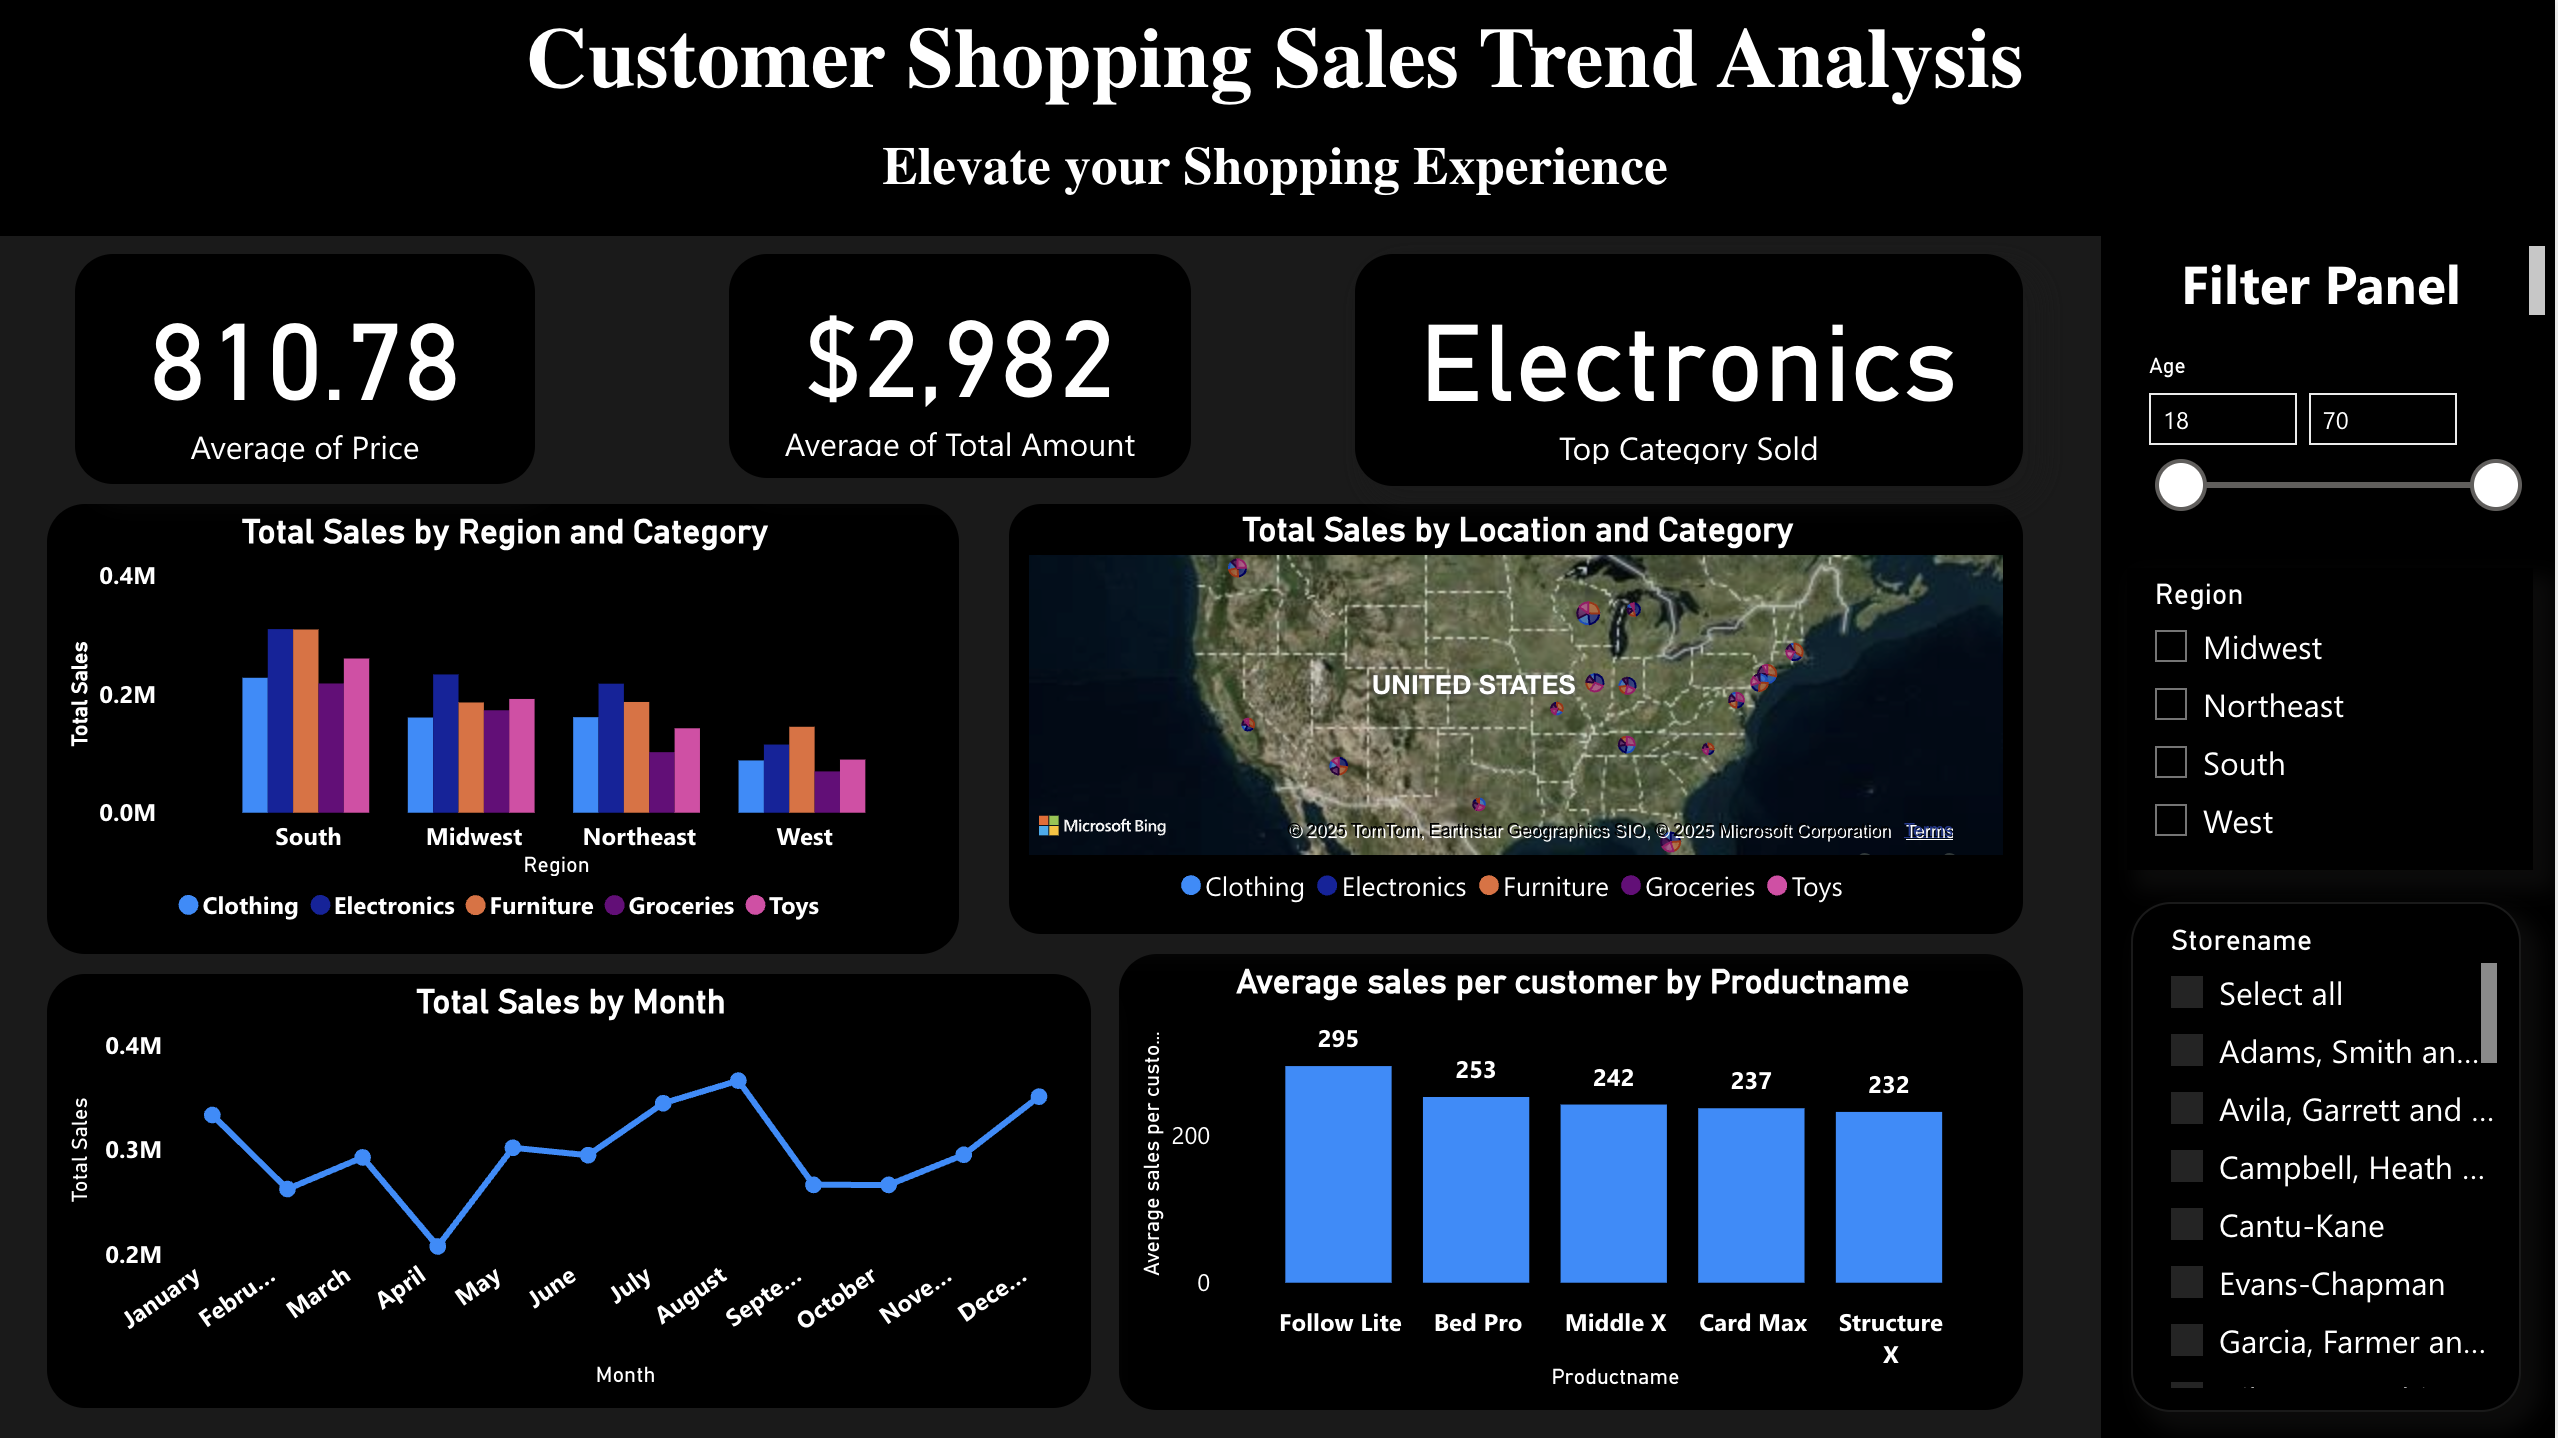

Layout of this report page (visuals, bound fields, positions):
{"tool":"powerbi","page":{"name":"Shopping Sale Trend","canvas":[1280,720],"ordinal":1},"visuals":[{"type":"shape","box":[1052.5,113.8,227.5,606.2],"z":0},{"type":"clusteredColumnChart","fields":{"Category":["Customers (2).Region"],"Series":["Products (2).Category"],"Y":["Sales (2).Total Sales"]},"box":[25,251.2,457.5,226.2],"z":1000},{"type":"card","fields":{"Values":["Products (2).Price"]},"box":[38.8,126.2,232.5,116.2],"z":2000},{"type":"card","fields":{"Values":["Sales (2).Total Amount"]},"box":[366.2,126.2,232.5,113.8],"z":3000},{"type":"textbox","box":[0,0,1280,63.8],"z":4000},{"type":"textbox","box":[0,63.1,1280,54.5],"z":5000},{"type":"columnChart","fields":{"Category":["Products (2).Productname"],"Y":["Sales (2).Average sales per customer"]},"box":[561.2,476.2,453.8,230],"z":6000},{"type":"lineChart","fields":{"Y":["Sales (2).Total Sales"],"Category":["Sales (2).Salesdate.Variation.Date Hierarchy.Month"]},"box":[25,486.2,523.8,218.8],"z":7000},{"type":"map","fields":{"Category":["Stores (2).Location"],"Series":["Products (2).Category"],"Size":["Sales (2).Total Sales"]},"box":[506.2,251.2,508.8,216.2],"z":8000},{"type":"card","fields":{"Values":["Sales (2).Top Category Sold"]},"box":[678.8,126.2,336.2,117.5],"z":9000},{"type":"textbox","box":[1053.8,117.5,226.2,45],"z":10000},{"type":"slicer","fields":{"Values":["Customers (2).Age"]},"box":[1063.8,172.5,207.5,90],"z":11000},{"type":"slicer","fields":{"Values":["Customers (2).Region"]},"box":[1066.2,283.8,202.5,151.2],"z":12000},{"type":"slicer","fields":{"Values":["Stores (2).Storename"]},"box":[1068.3,450.6,194.4,255],"z":13000}]}

Visuals, with their boxes in screenshot pixels (x1, y1, x2, y2), scaled from the page's 1280x720 canvas onto the 2558x1438 screenshot:
shape: [2103, 227, 2557, 1437]
clusteredColumnChart - Customers (2).Region x Products (2).Category: [50, 502, 964, 953]
card - Products (2).Price: [78, 252, 542, 484]
card - Sales (2).Total Amount: [732, 252, 1196, 479]
textbox: [0, 0, 2557, 127]
textbox: [0, 126, 2557, 235]
columnChart - Products (2).Productname x Sales (2).Average sales per customer: [1122, 951, 2028, 1410]
lineChart - Sales (2).Total Sales x Sales (2).Salesdate.Variation.Date Hierarchy.Month: [50, 971, 1097, 1408]
map - Stores (2).Location x Products (2).Category: [1012, 502, 2028, 934]
card - Sales (2).Top Category Sold: [1357, 252, 2028, 487]
textbox: [2106, 235, 2557, 325]
slicer - Customers (2).Age: [2126, 345, 2541, 524]
slicer - Customers (2).Region: [2131, 567, 2535, 869]
slicer - Stores (2).Storename: [2135, 900, 2523, 1409]
